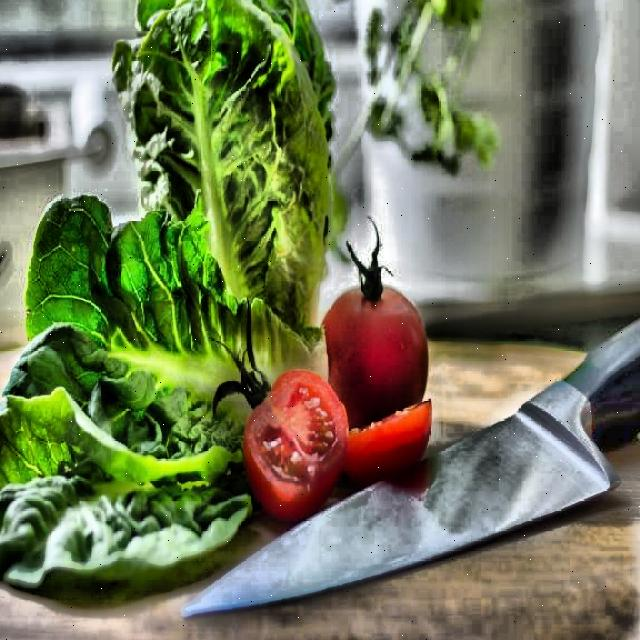knife: (184, 308, 640, 628)
